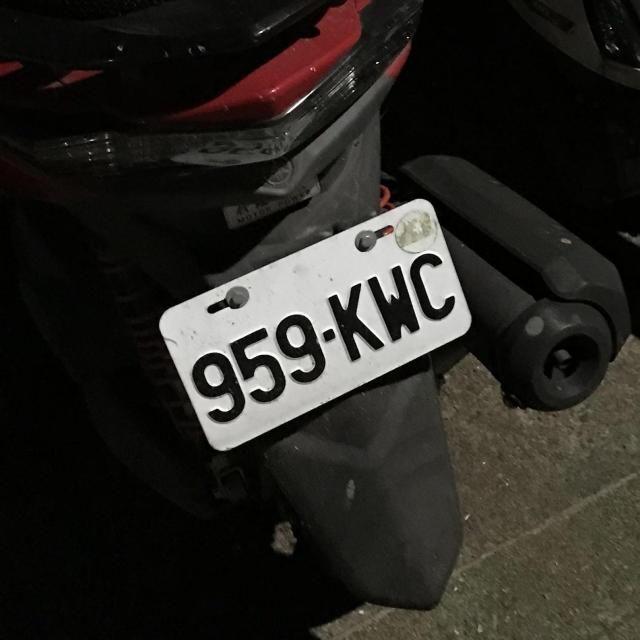W: (143, 193, 487, 455)
